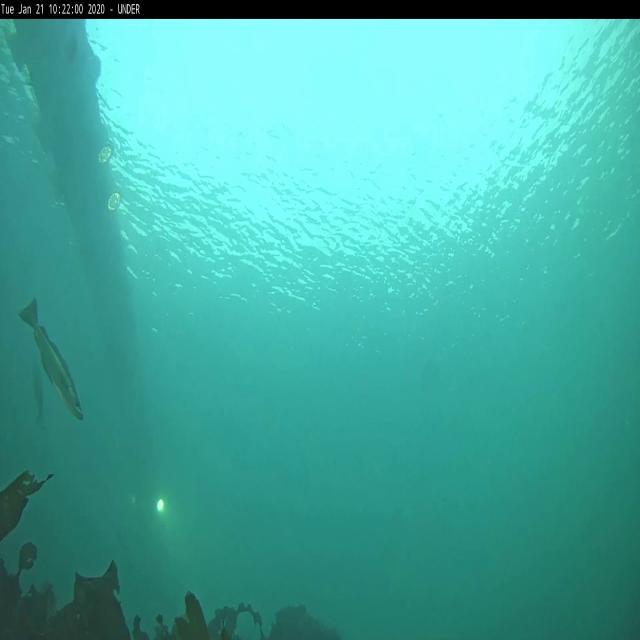fish: (19, 296, 84, 420)
